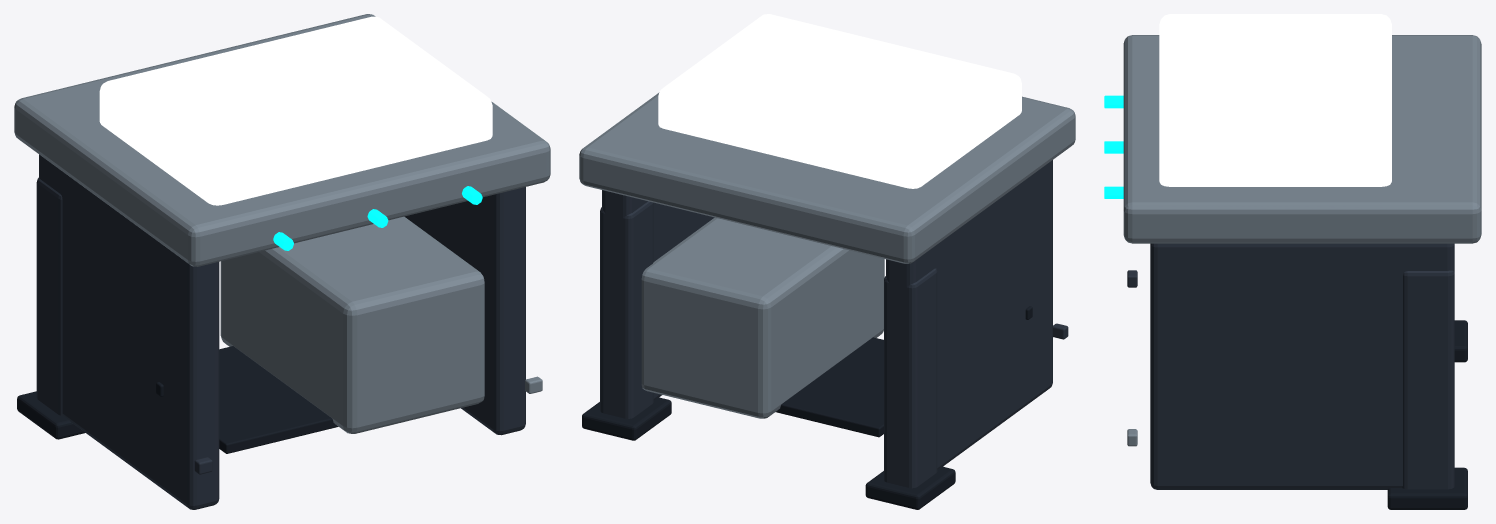
File: furniture_toilet_future_a_v01.glb
3 views of the same model, side by side, from view 1: azimuth 30°, elevation 25°; view 2: azimuth 150°, elevation 25°; view 3: azimuth 270°, elevation 25° (orthographic). The views are drawn at different scales.
Visible parts, largest first — view 1: component__user_contact_surface__contact_surface, component__storage_or_access_component__storage, component__load_bearing_frame__frame.001, component__primary_use_surface__use_surface, component__load_bearing_frame__frame, component__interaction_clearance__clearance_marker, component__legs_pedestal_or_wall_mount__leg.001, component__floor_or_wall_contact_detail__floor_contact.001; view 2: component__user_contact_surface__contact_surface, component__storage_or_access_component__storage, component__primary_use_surface__use_surface, component__load_bearing_frame__frame.001, component__legs_pedestal_or_wall_mount__leg.001, component__legs_pedestal_or_wall_mount__leg, component__load_bearing_frame__frame, component__interaction_clearance__clearance_marker, component__floor_or_wall_contact_detail__floor_contact.001, component__floor_or_wall_contact_detail__floor_contact; view 3: component__load_bearing_frame__frame, component__user_contact_surface__contact_surface, component__primary_use_surface__use_surface, component__legs_pedestal_or_wall_mount__leg, component__floor_or_wall_contact_detail__floor_contact, component__floor_or_wall_contact_detail__floor_contact.001.
Boxes of the visible parts, bbox=[...] form: component__user_contact_surface__contact_surface: bbox=[99, 16, 492, 205]; component__storage_or_access_component__storage: bbox=[220, 216, 484, 433]; component__load_bearing_frame__frame.001: bbox=[39, 154, 219, 509]; component__primary_use_surface__use_surface: bbox=[14, 14, 550, 266]; component__load_bearing_frame__frame: bbox=[404, 187, 525, 435]; component__interaction_clearance__clearance_marker: bbox=[219, 346, 338, 453]; component__legs_pedestal_or_wall_mount__leg.001: bbox=[36, 177, 63, 415]; component__floor_or_wall_contact_detail__floor_contact.001: bbox=[17, 391, 85, 439]; component__user_contact_surface__contact_surface: bbox=[658, 14, 1021, 188]; component__storage_or_access_component__storage: bbox=[641, 217, 884, 418]; component__primary_use_surface__use_surface: bbox=[579, 92, 1075, 263]; component__load_bearing_frame__frame.001: bbox=[886, 160, 1052, 482]; component__legs_pedestal_or_wall_mount__leg.001: bbox=[884, 268, 937, 488]; component__legs_pedestal_or_wall_mount__leg: bbox=[600, 201, 653, 418]; component__load_bearing_frame__frame: bbox=[602, 190, 714, 415]; component__interaction_clearance__clearance_marker: bbox=[776, 337, 883, 437]; component__floor_or_wall_contact_detail__floor_contact.001: bbox=[865, 466, 955, 509]; component__floor_or_wall_contact_detail__floor_contact: bbox=[582, 397, 671, 440]; component__load_bearing_frame__frame: bbox=[1150, 243, 1454, 489]; component__user_contact_surface__contact_surface: bbox=[1159, 14, 1391, 186]; component__primary_use_surface__use_surface: bbox=[1123, 35, 1481, 243]; component__legs_pedestal_or_wall_mount__leg: bbox=[1402, 270, 1454, 489]; component__floor_or_wall_contact_detail__floor_contact: bbox=[1387, 467, 1467, 509]; component__floor_or_wall_contact_detail__floor_contact.001: bbox=[1454, 320, 1467, 362].
Bounding box in the file's own units: 1.39 × 1.27 × 1.26.
